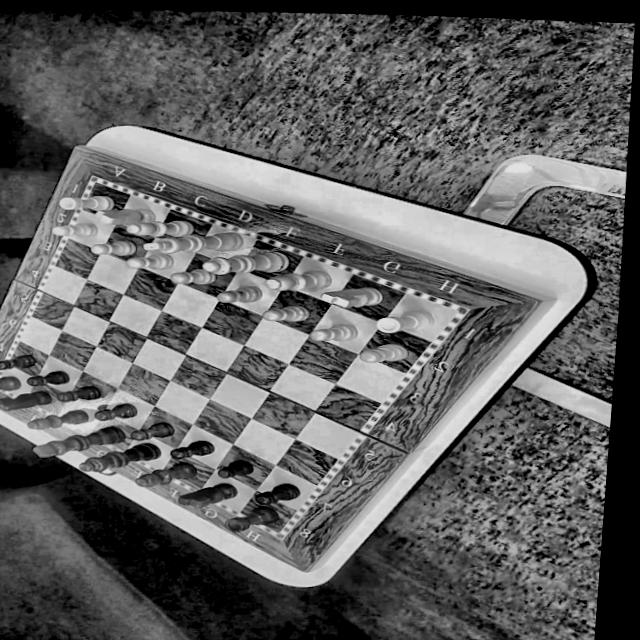chessboard: (0, 181, 455, 533)
